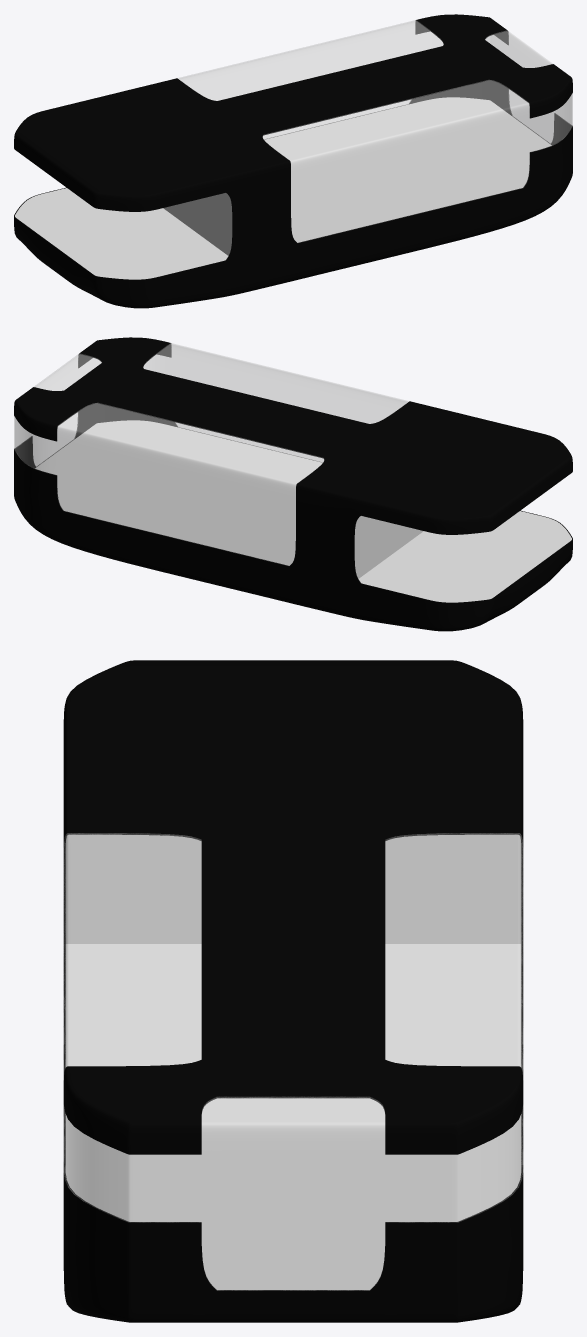
3 renders of one model, top to bottom at view 1: azimuth 30°, elevation 25°; view 2: azimuth 150°, elevation 25°; view 3: azimuth 270°, elevation 25°, orthographic. The views are drawn at different scales.
Parts seen in each view (by area): view 1: 11.корпус.002, 33.пол.003, 22.стекла.002; view 2: 11.корпус.002, 33.пол.003, 22.стекла.002; view 3: 11.корпус.002, 22.стекла.002, 33.пол.003.
Boxes of the visible parts, x1,y1,x2,y2 form: 11.корпус.002: (14,14,572,308); 33.пол.003: (15,97,551,279); 22.стекла.002: (178,20,572,242); 11.корпус.002: (14,337,572,631); 33.пол.003: (35,420,571,602); 22.стекла.002: (14,343,408,565); 11.корпус.002: (63,660,523,1322); 22.стекла.002: (64,833,522,1290); 33.пол.003: (65,834,521,1289).
Bounding box in the file's own units: 12 × 2.93 × 5.
Materials: 4 (1 with a texture image).
